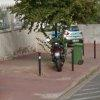Motorcycle: (43, 34, 72, 73)
